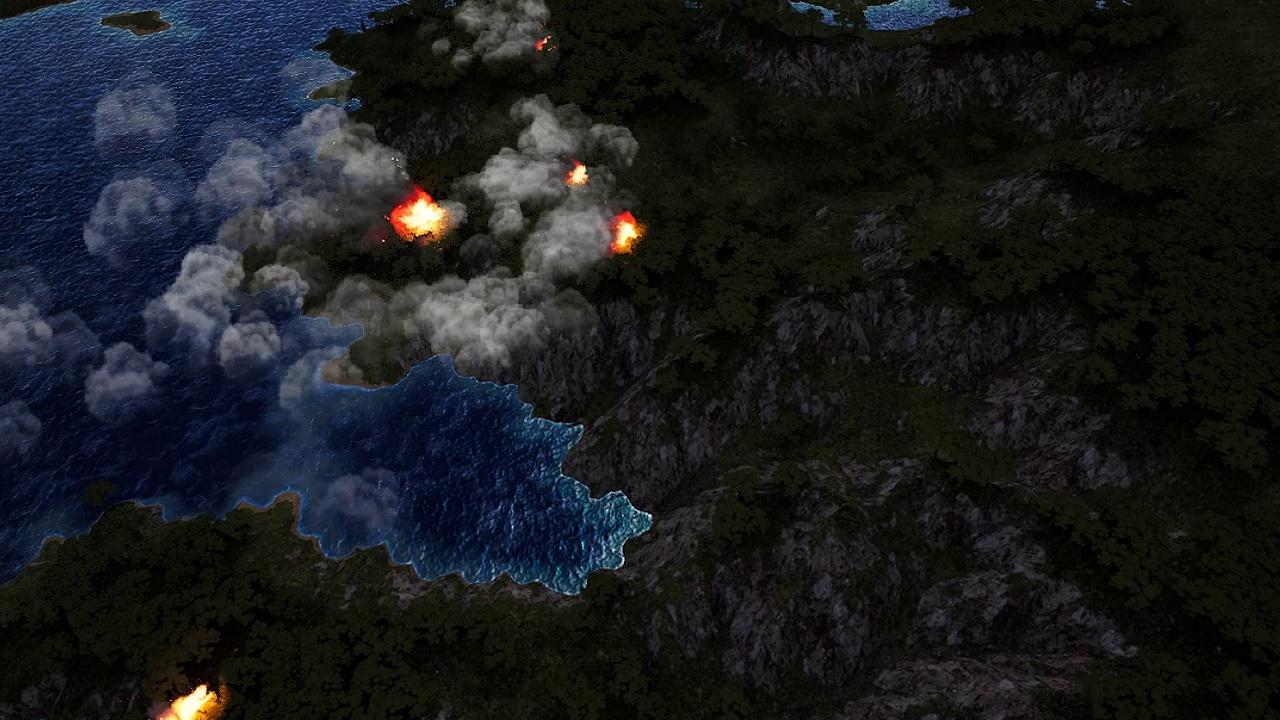fire: (393, 190, 449, 237), (157, 684, 228, 720), (613, 212, 644, 256), (567, 156, 589, 187)
smoke: (0, 59, 641, 459), (445, 0, 562, 71)
